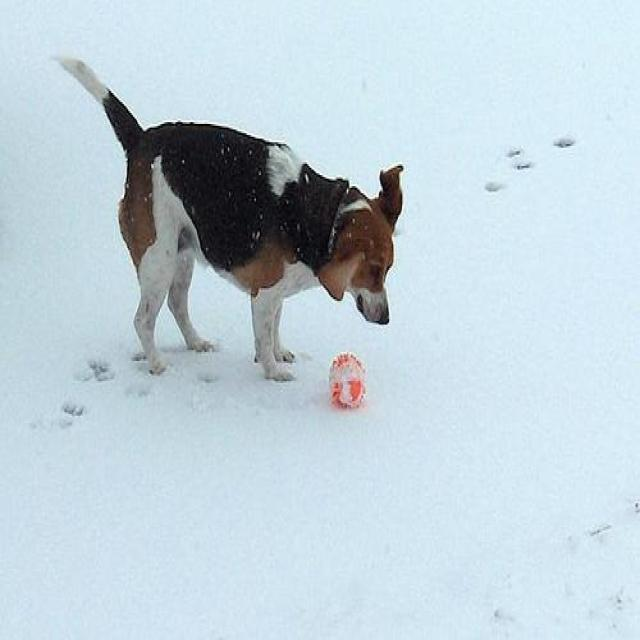beagle: (55, 48, 406, 386)
